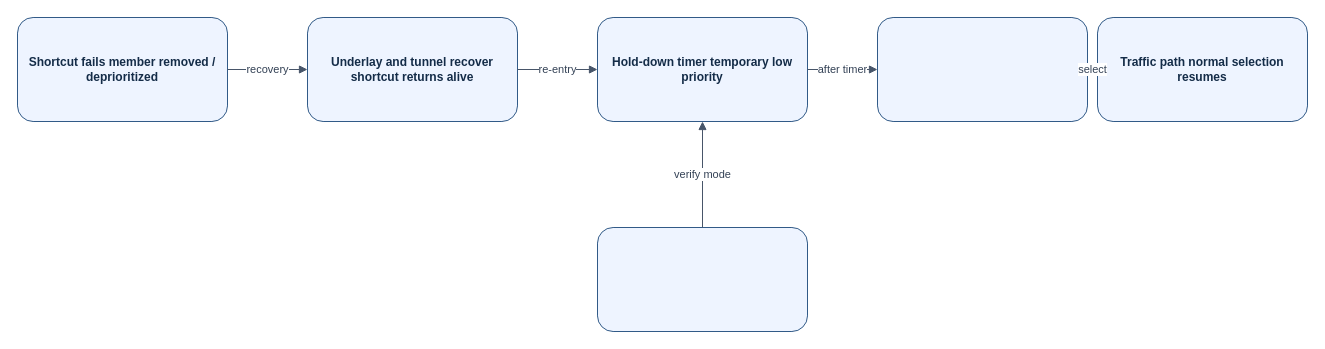
The diagram is 1325 pixels wide and 349 high, and some of its shapes have lost their labels. Here are the shapes that lost their labels. From the top down, the centre of each, then its label:
At point (982, 69): "Service strategy priority / member ranking".
At point (702, 279): "SLA-mode check timer applicability caveat".
